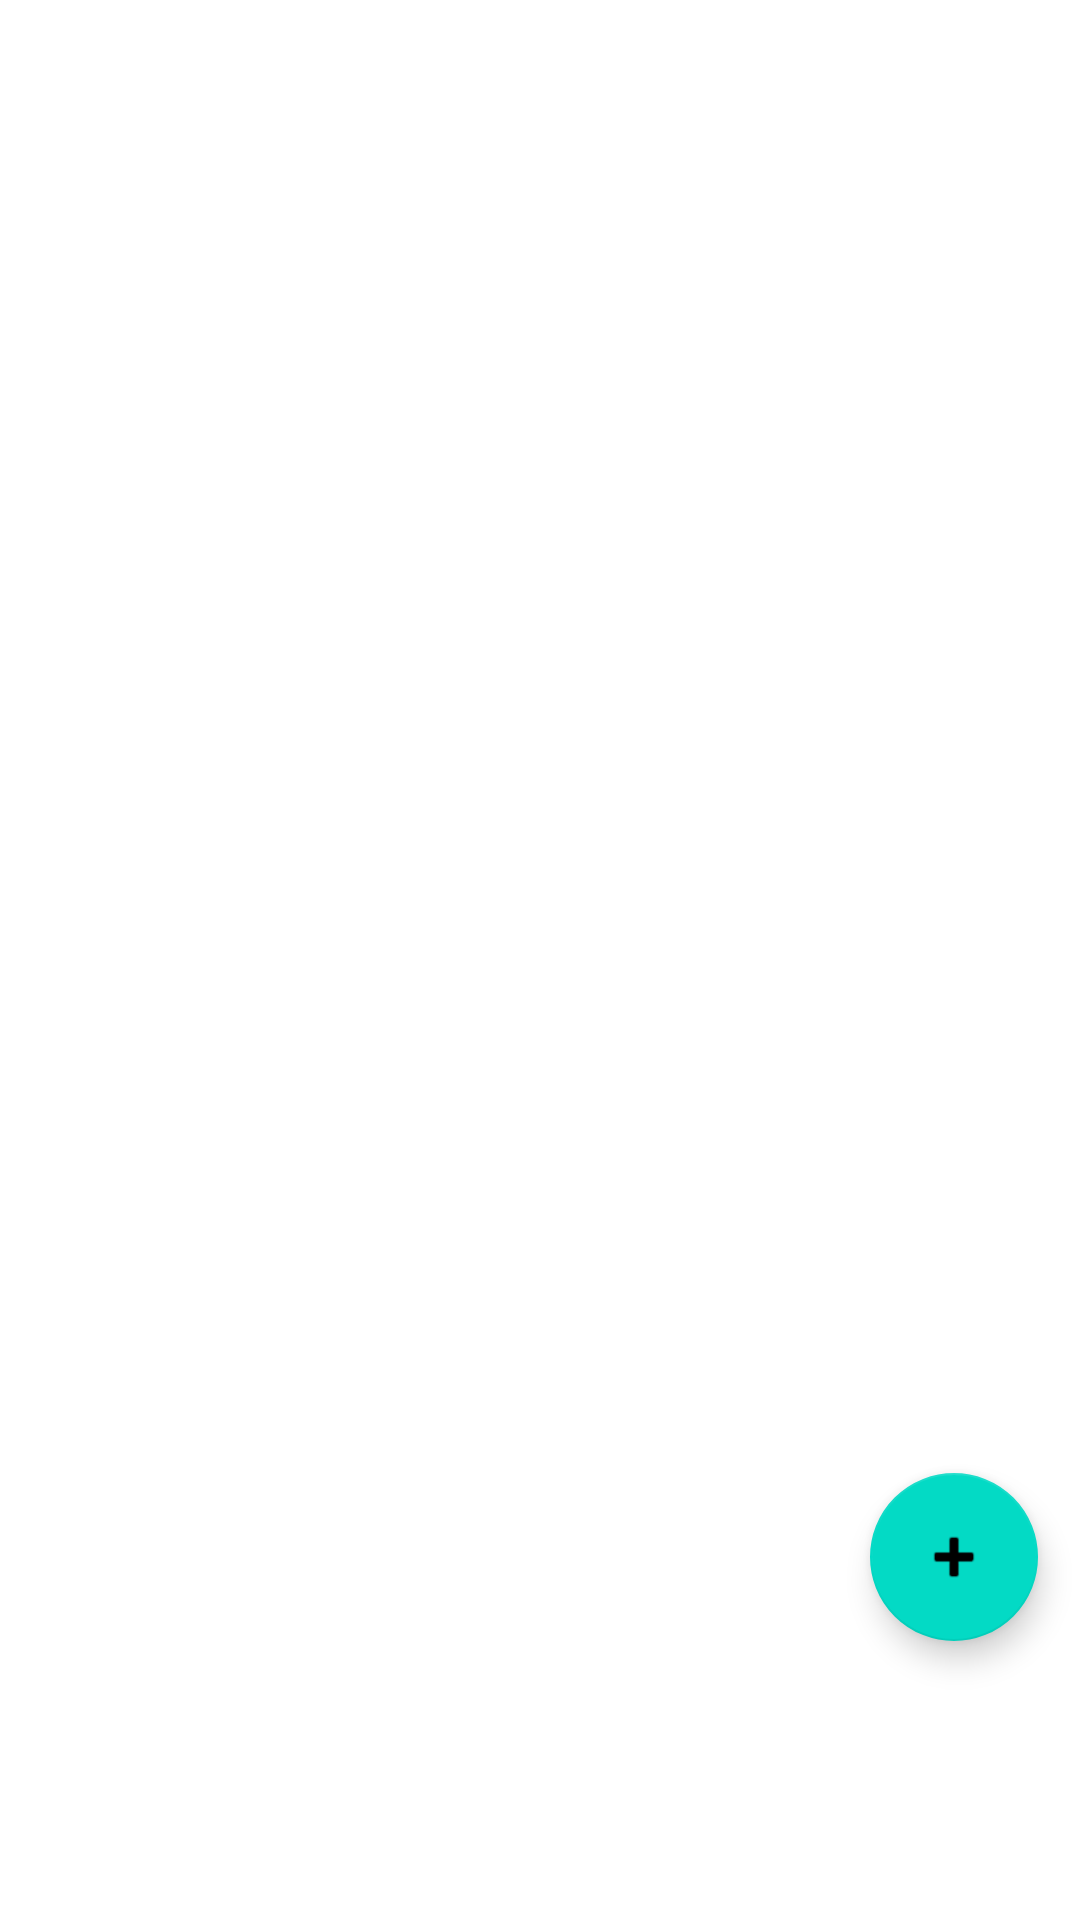

Where icons sit on this 1080 × 1920 app screen, as region(x1, y1, x2, y2):
add: region(870, 1473, 1038, 1641)
